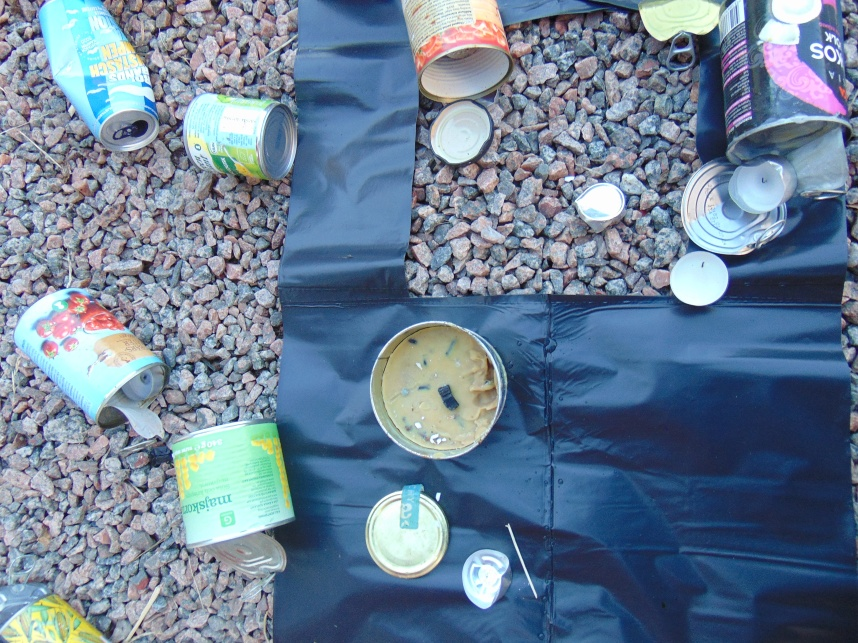metal: (723, 3, 858, 170), (681, 159, 786, 257), (364, 491, 452, 579), (640, 1, 723, 71), (429, 100, 498, 169), (727, 149, 794, 216), (790, 135, 850, 205), (670, 249, 728, 310), (462, 546, 510, 615), (575, 180, 625, 229), (104, 405, 163, 441), (121, 370, 171, 405)
metal_can: (15, 288, 164, 434), (368, 320, 509, 464), (39, 1, 162, 155), (171, 418, 291, 550), (400, 1, 515, 99), (182, 92, 296, 182), (2, 591, 116, 643)
